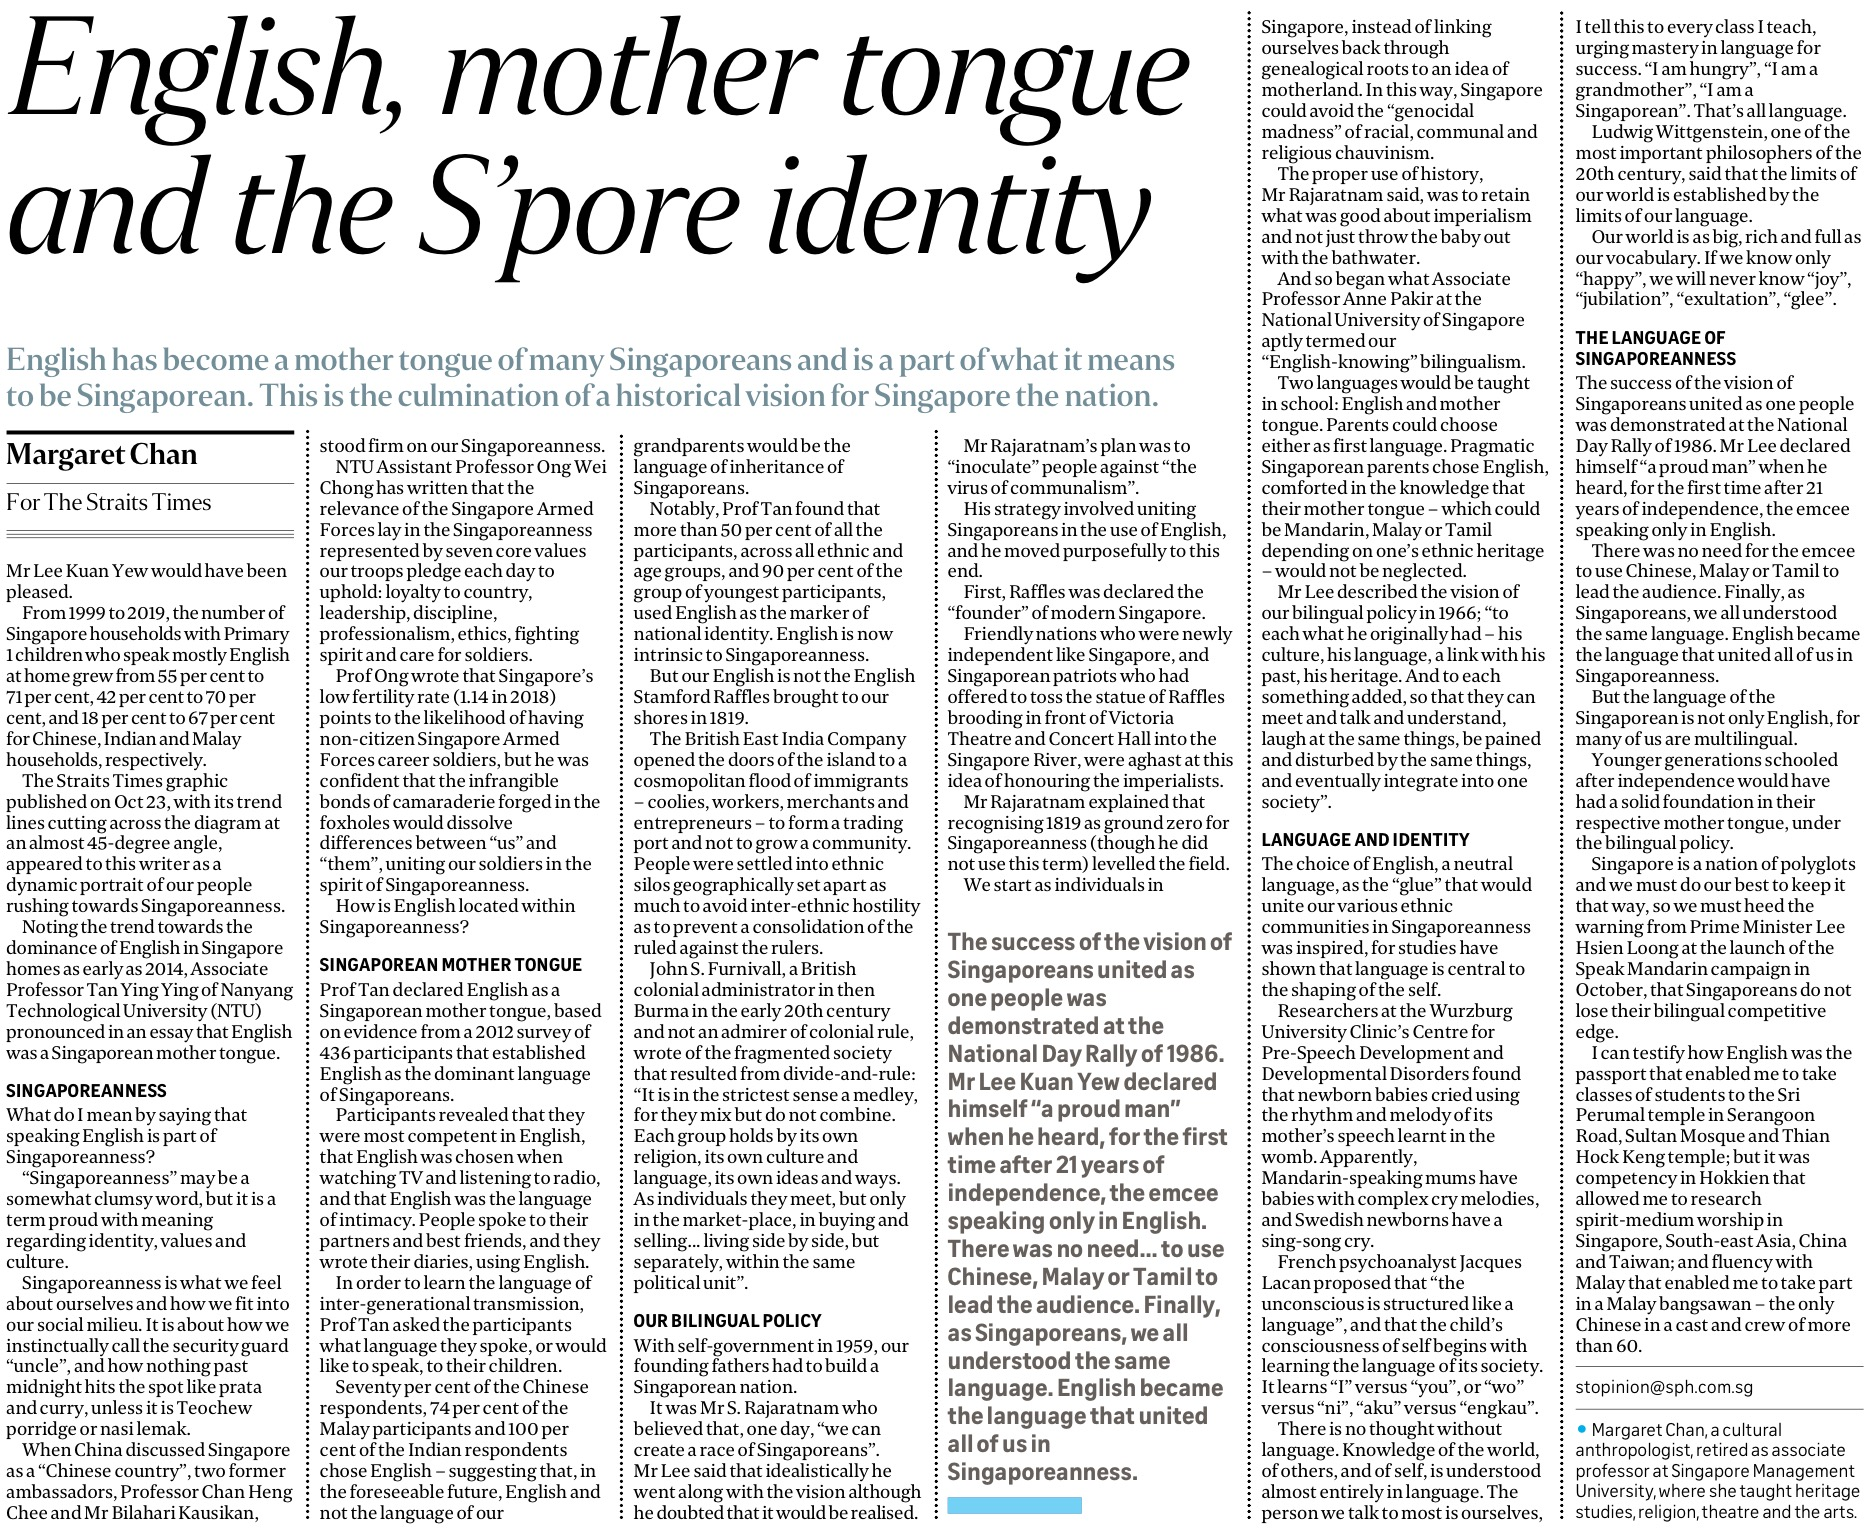Byline: (3, 438, 221, 524)
Headline: (5, 2, 1201, 294), (1573, 322, 1740, 371), (1254, 822, 1489, 852), (314, 953, 592, 978), (5, 1077, 176, 1107), (637, 1305, 841, 1329)
Text: (1566, 368, 1863, 1355), (626, 434, 929, 1298), (1259, 12, 1549, 817), (1256, 850, 1554, 1537), (943, 922, 1245, 1489), (315, 976, 612, 1529), (2, 552, 303, 1072), (315, 432, 612, 943), (942, 430, 1242, 898), (2, 1103, 301, 1537), (5, 333, 1190, 416), (1570, 9, 1869, 319), (626, 1329, 928, 1523)
